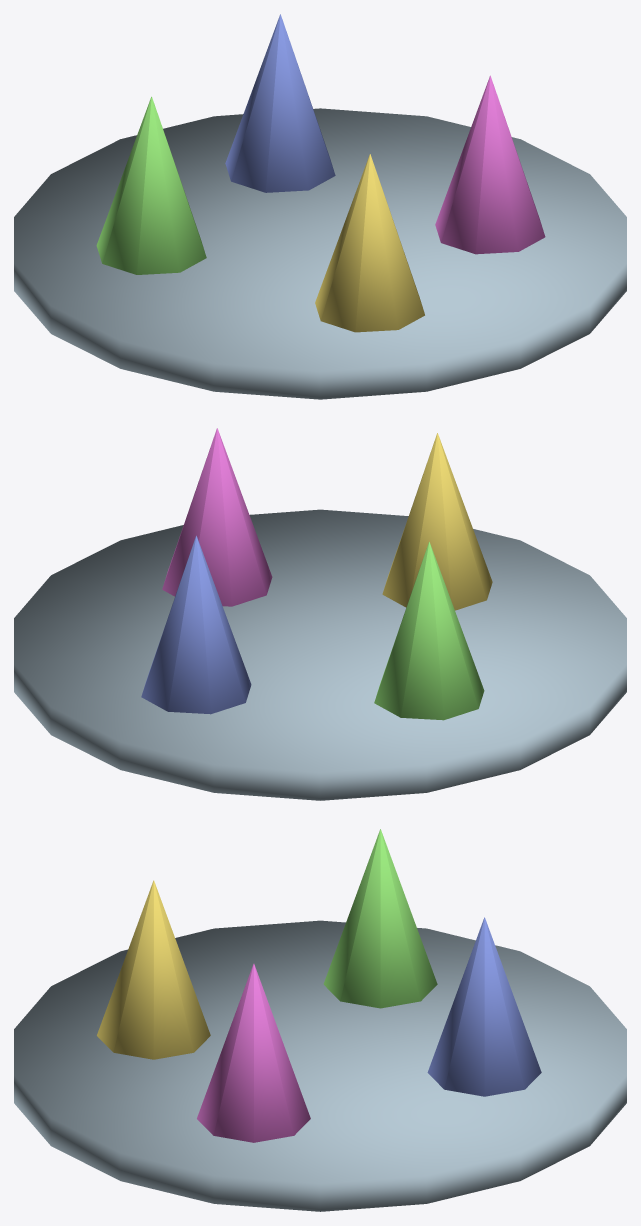
File: coral_reef.glb
The picture shows the model from 3 angles, top to bottom: view 1: azimuth 30°, elevation 25°; view 2: azimuth 150°, elevation 25°; view 3: azimuth 270°, elevation 25°; orthographic projection.
Visible parts, largest first — view 1: seabed, coral_0.4, coral_5.0, coral_1.8, coral_3.5; view 2: seabed, coral_3.5, coral_5.0, coral_0.4, coral_1.8; view 3: seabed, coral_0.4, coral_1.8, coral_3.5, coral_5.0.
Part boxes in pixels (<box>): seabed: <box>14,108,626,399</box>; coral_0.4: <box>435,75,545,254</box>; coral_5.0: <box>225,14,335,192</box>; coral_1.8: <box>315,154,424,332</box>; coral_3.5: <box>96,96,206,274</box>; seabed: <box>14,509,626,800</box>; coral_3.5: <box>374,541,484,720</box>; coral_5.0: <box>141,535,251,714</box>; coral_0.4: <box>162,428,272,606</box>; coral_1.8: <box>382,433,492,610</box>; seabed: <box>14,920,626,1211</box>; coral_0.4: <box>197,963,310,1142</box>; coral_1.8: <box>97,880,210,1059</box>; coral_3.5: <box>323,829,437,1008</box>; coral_5.0: <box>427,917,541,1096</box>.
Bounding box in the file's own units: 2 × 0.65 × 1.97.
